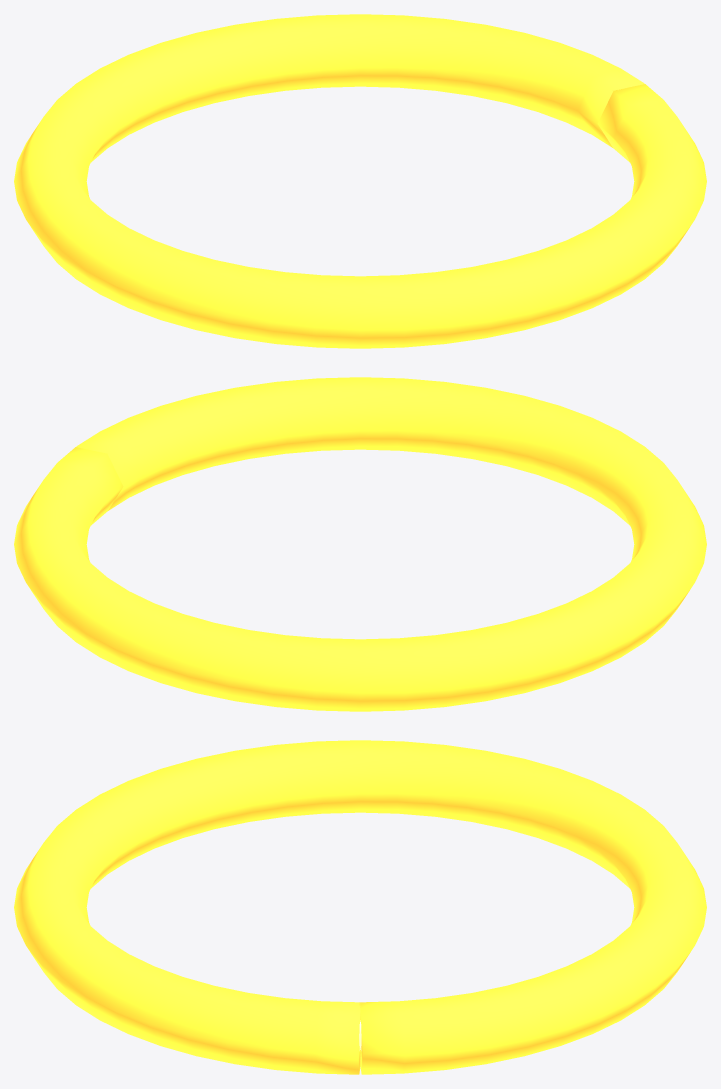
File: halo.glb
3 renders of one model, top to bottom at view 1: azimuth 30°, elevation 25°; view 2: azimuth 150°, elevation 25°; view 3: azimuth 270°, elevation 25°, orthographic.
Parts seen in each view (by area): view 1: Halo_Sculpture; view 2: Halo_Sculpture; view 3: Halo_Sculpture.
Boxes of the visible parts, box(x1,y1,x2,y2) form: Halo_Sculpture: box(14, 14, 706, 348); Halo_Sculpture: box(14, 377, 706, 711); Halo_Sculpture: box(14, 740, 706, 1074).
Size of the model in its own units: 0.362 by 0.0329 by 0.362.
